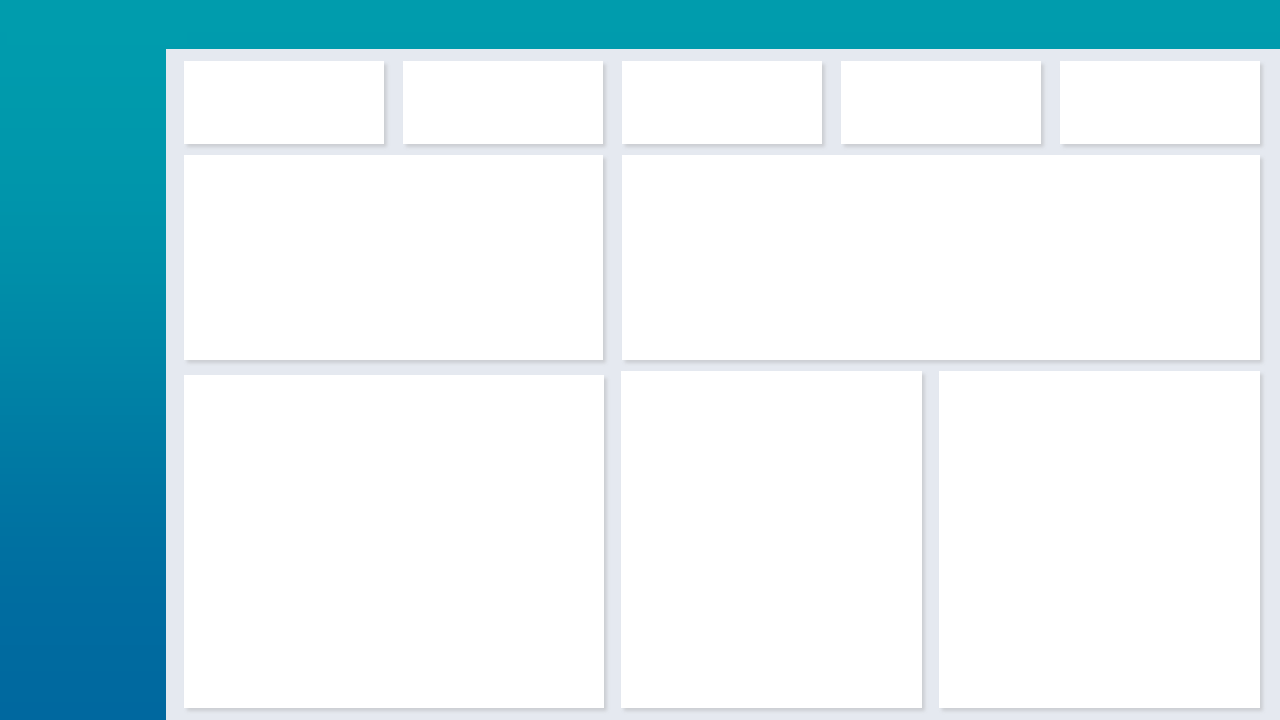

What the dashboard file says about the page in this screenshot:
{"tool":"powerbi","page":{"name":"Page 1","canvas":[1280,720],"ordinal":0},"visuals":[{"type":"multiRowCard","fields":{"Values":["Mesure.Revenus"]},"box":[185,62.6,196.4,75.4],"z":0},{"type":"multiRowCard","fields":{"Values":["Mesure.Frais"]},"box":[402.7,62.6,196.4,75.4],"z":1000},{"type":"multiRowCard","fields":{"Values":["Mesure.marge beneficiaire %"]},"box":[845.2,62.6,196.4,75.4],"z":2000},{"type":"multiRowCard","fields":{"Values":["Mesure.profit"]},"box":[624.7,62.6,196.4,75.4],"z":3000},{"type":"multiRowCard","fields":{"Values":["Mesure.Qte de commende"]},"box":[1064.3,62.6,196.4,75.4],"z":4000},{"type":"stackedAreaChart","fields":{"Category":["dim_Produit.NomProduit"],"Y":["Mesure.Revenus"],"Series":["dim_Produit.NomCategorieProduit"]},"box":[624.4,147.3,637.2,201.1],"z":5000},{"type":"clusteredColumnChart","fields":{"Y":["Mesure.Revenus"],"Category":["dim_Client.DataPrimeiraCompra.Variation.Hiérarchie de dates.Année"]},"box":[185.5,147.3,413.5,212.4],"z":6000},{"type":"pieChart","fields":{"Category":["f_Vente.IDClient"],"Y":["Mesure.Revenus"]},"box":[185.5,372.4,413.5,331.3],"z":7000},{"type":"barChart","title":"Top 5 Revenus par Produit","fields":{"Y":["Mesure.Revenus"],"Category":["dim_Produit.NomProduit"]},"box":[624.3,372.2,297.4,332.2],"z":8000},{"type":"gauge","fields":{"Y":["Mesure.Revenus"]},"box":[942.6,372.2,318.3,332.2],"z":9000}]}

Visuals, with their boxes in screenshot pixels (x1, y1, x2, y2), scaled from the page's 1280x720 canvas onto the 1280x720 screenshot:
multiRowCard - Mesure.Revenus: Rect(185, 63, 381, 138)
multiRowCard - Mesure.Frais: Rect(403, 63, 599, 138)
multiRowCard - Mesure.marge beneficiaire %: Rect(845, 63, 1042, 138)
multiRowCard - Mesure.profit: Rect(625, 63, 821, 138)
multiRowCard - Mesure.Qte de commende: Rect(1064, 63, 1261, 138)
stackedAreaChart - dim_Produit.NomProduit x Mesure.Revenus: Rect(624, 147, 1262, 348)
clusteredColumnChart - Mesure.Revenus x dim_Client.DataPrimeiraCompra.Variation.Hiérarchie de dates.Année: Rect(186, 147, 599, 360)
pieChart - f_Vente.IDClient x Mesure.Revenus: Rect(186, 372, 599, 704)
"Top 5 Revenus par Produit" barChart: Rect(624, 372, 922, 704)
gauge - Mesure.Revenus: Rect(943, 372, 1261, 704)
